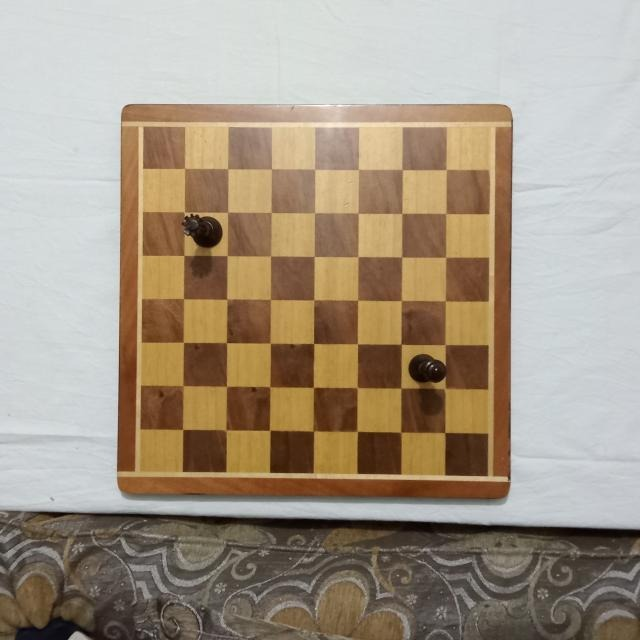black-king: (407, 352, 448, 384)
black-queen: (180, 213, 223, 251)
